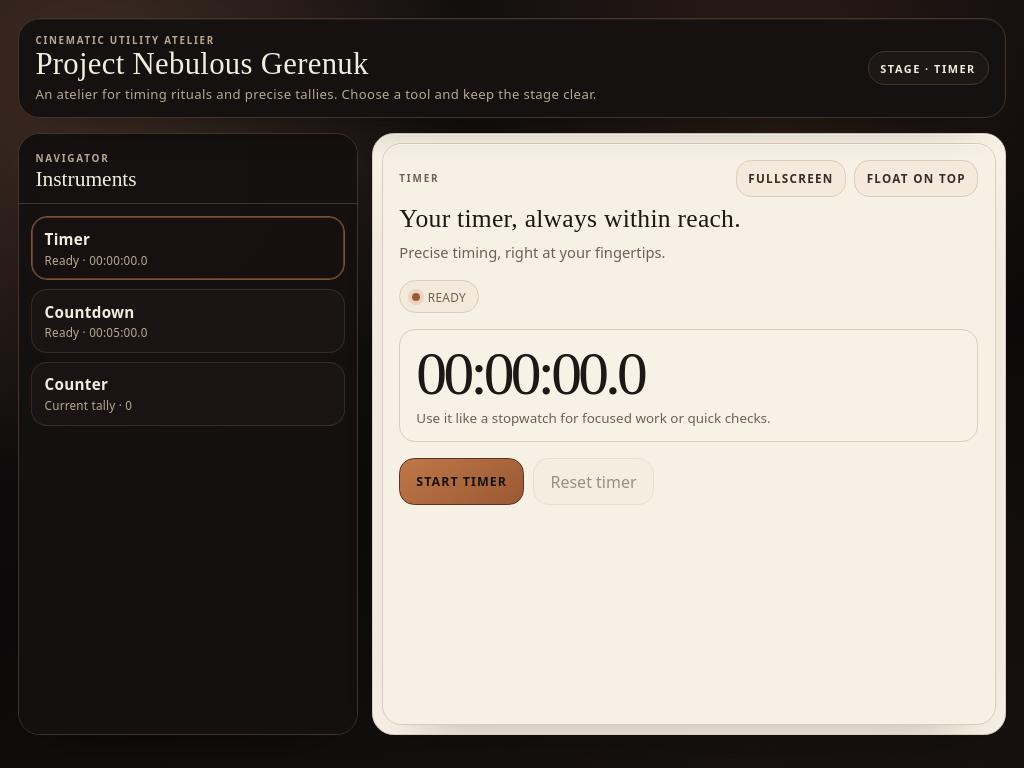
Test case: DashboardPageComponent › switches the active stage when a rail tool is selected
Click the tab with id "tool-tab-countdown".
click(90, 312)  # box [31,289,345,353]
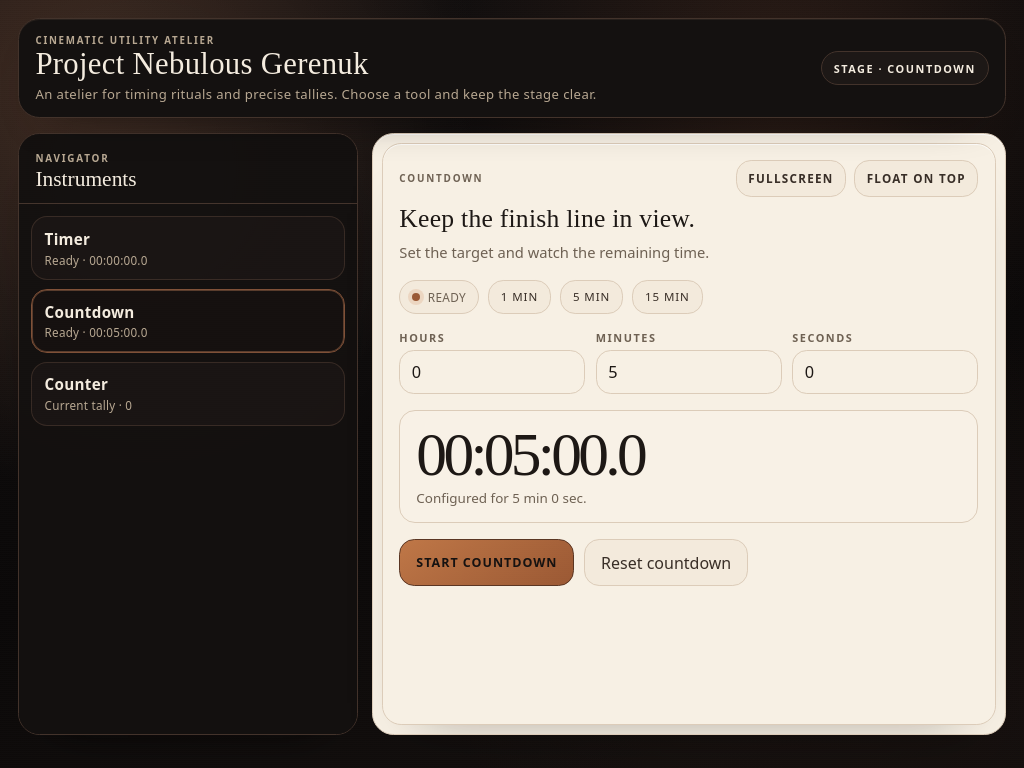
Now the element that starts with "Countdown" is shown, box [382,142,996,725]
